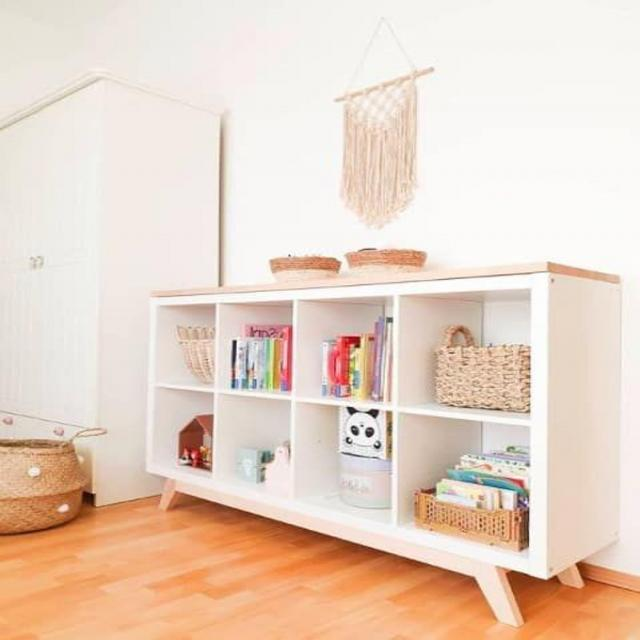Shelf: (132, 252, 632, 625)
